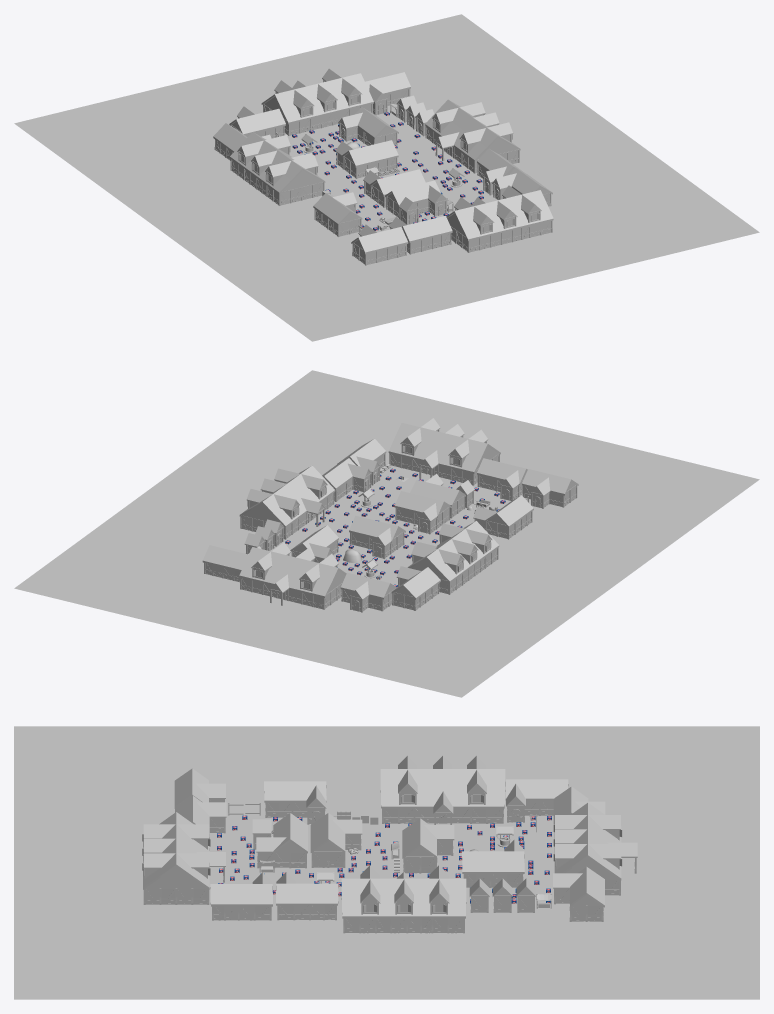
File: main.fbx
3 views of the same model, one above another, from view 1: azimuth 30°, elevation 25°; view 2: azimuth 150°, elevation 25°; view 3: azimuth 270°, elevation 25° (orthographic). The views are drawn at different scales.
Visible parts, largest first — view 1: Plane, Building_e, Building_e_(2), Building_e_(3), Building_e_(1), Building_a_(5), Building_b, Building_a_(1), Building_a, Building_c_(1), Building_a_(2), Building_c_(2) (+5 smaller); view 2: Plane, Building_e_(3), Building_e, Building_e_(1), Building_e_(2), Building_a_(5), Building_b, Building_a_(3), Building_a_(1), Building_b_(1), Building_c_(3), Building_a (+5 smaller); view 3: Plane, Building_e_(2), Building_e_(1), Building_e, Building_e_(3), Building_c, Building_a_(4), Building_a_(1), Building_a_(3), Building_c_(2), Building_a_(5), Building_c_(1) (+8 smaller).
Part boxes in pixels (bbox=[...]): Plane: bbox=[14, 14, 759, 341]; Building_e: bbox=[446, 185, 553, 252]; Building_e_(2): bbox=[230, 132, 325, 205]; Building_e_(3): bbox=[261, 68, 373, 135]; Building_e_(1): bbox=[425, 99, 520, 173]; Building_a_(5): bbox=[335, 140, 398, 178]; Building_b: bbox=[351, 224, 408, 265]; Building_a_(1): bbox=[313, 192, 362, 237]; Building_a: bbox=[389, 215, 452, 254]; Building_c_(1): bbox=[338, 107, 398, 145]; Building_a_(2): bbox=[385, 180, 448, 218]; Building_c_(2): bbox=[365, 72, 410, 115]; Plane: bbox=[14, 370, 759, 697]; Building_e_(3): bbox=[239, 542, 346, 609]; Building_e: bbox=[388, 418, 500, 485]; Building_e_(1): bbox=[239, 465, 335, 539]; Building_e_(2): bbox=[407, 520, 499, 594]; Building_a_(5): bbox=[349, 515, 405, 558]; Building_b: bbox=[522, 469, 578, 508]; Building_a_(3): bbox=[394, 491, 451, 534]; Building_a_(1): bbox=[473, 495, 533, 539]; Building_b_(1): bbox=[340, 572, 396, 612]; Building_c_(3): bbox=[391, 566, 440, 610]; Building_a: bbox=[477, 458, 527, 500]; Plane: bbox=[14, 726, 759, 999]; Building_e_(2): bbox=[380, 755, 505, 824]; Building_e_(1): bbox=[341, 865, 466, 933]; Building_e: bbox=[142, 812, 225, 904]; Building_e_(3): bbox=[553, 803, 637, 895]; Building_c: bbox=[210, 872, 272, 920]; Building_a_(4): bbox=[276, 872, 338, 920]; Building_a_(1): bbox=[264, 781, 326, 824]; Building_a_(3): bbox=[310, 813, 362, 867]; Building_c_(2): bbox=[553, 866, 604, 921]; Building_a_(5): bbox=[402, 818, 454, 873]; Building_c_(1): bbox=[462, 839, 524, 887].
Bounding box in the file's own units: 130 × 9.89 × 150.
